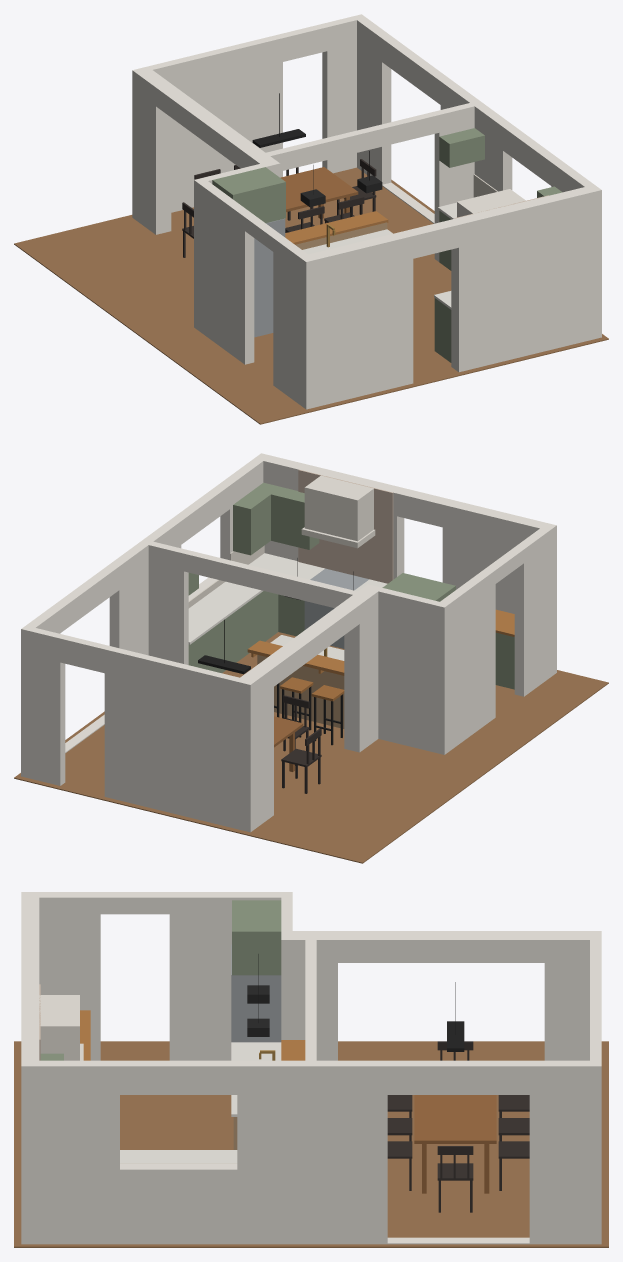
Rendered from R4_kitchen_AR_fullsize.glb.
The picture shows the model from 3 angles, top to bottom: view 1: azimuth 30°, elevation 25°; view 2: azimuth 150°, elevation 25°; view 3: azimuth 270°, elevation 25°; orthographic projection. The views are drawn at different scales.
Visible parts, largest first — view 1: wall, floor, perim, steel, chair, table, wood, hood, top, shade, island; view 2: wall, floor, perim, brick, hood, top, island, chair, black, wood, steel, stoolseat (+2 smaller); view 3: wall, floor, chair, table, perim, steel, top, hood, wood, shade, black.
Part boxes in pixels (x1=…): wall: x1=132, y1=14, x2=601, y2=409; floor: x1=14, y1=167, x2=608, y2=424; perim: x1=212, y1=128, x2=562, y2=362; steel: x1=254, y1=218, x2=285, y2=337; chair: x1=182, y1=159, x2=376, y2=257; table: x1=280, y1=167, x2=358, y2=218; wood: x1=285, y1=211, x2=388, y2=244; hood: x1=457, y1=189, x2=525, y2=217; top: x1=302, y1=202, x2=456, y2=309; shade: x1=300, y1=175, x2=382, y2=206; island: x1=295, y1=222, x2=387, y2=249; wall: x1=21, y1=453, x2=556, y2=832; floor: x1=14, y1=632, x2=608, y2=863; perim: x1=188, y1=482, x2=514, y2=689; brick: x1=298, y1=469, x2=393, y2=583; hood: x1=301, y1=475, x2=375, y2=548; top: x1=188, y1=553, x2=387, y2=660; island: x1=257, y1=655, x2=344, y2=728; chair: x1=281, y1=695, x2=321, y2=793; black: x1=198, y1=655, x2=342, y2=745; wood: x1=247, y1=609, x2=514, y2=675; steel: x1=304, y1=568, x2=368, y2=648; stoolseat: x1=280, y1=677, x2=344, y2=701; wall: x1=21, y1=892, x2=601, y2=1244; floor: x1=14, y1=1041, x2=608, y2=1247; chair: x1=387, y1=1041, x2=529, y2=1212; table: x1=414, y1=1095, x2=496, y2=1193; perim: x1=40, y1=900, x2=281, y2=1060; steel: x1=231, y1=944, x2=281, y2=1042; top: x1=120, y1=1042, x2=281, y2=1163; hood: x1=39, y1=995, x2=83, y2=1060; wood: x1=80, y1=1010, x2=305, y2=1060; shade: x1=247, y1=985, x2=269, y2=1036; black: x1=447, y1=1021, x2=464, y2=1051.
Bounding box in the file's own units: 6 × 2.44 × 7.35.
